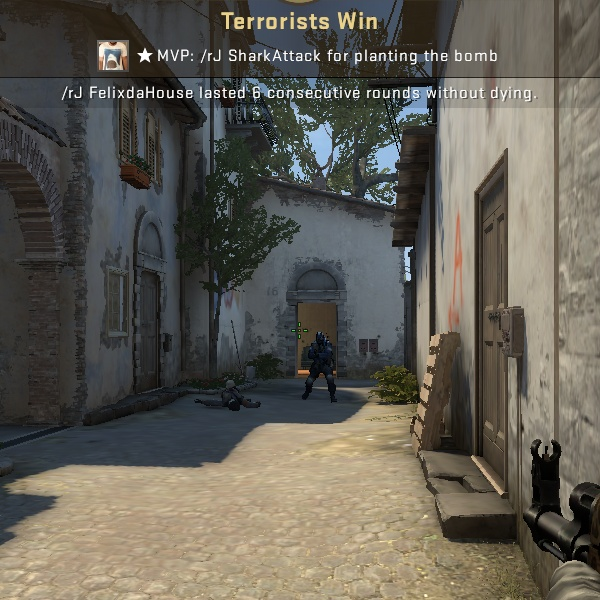ct_body: (298, 335, 339, 400)
